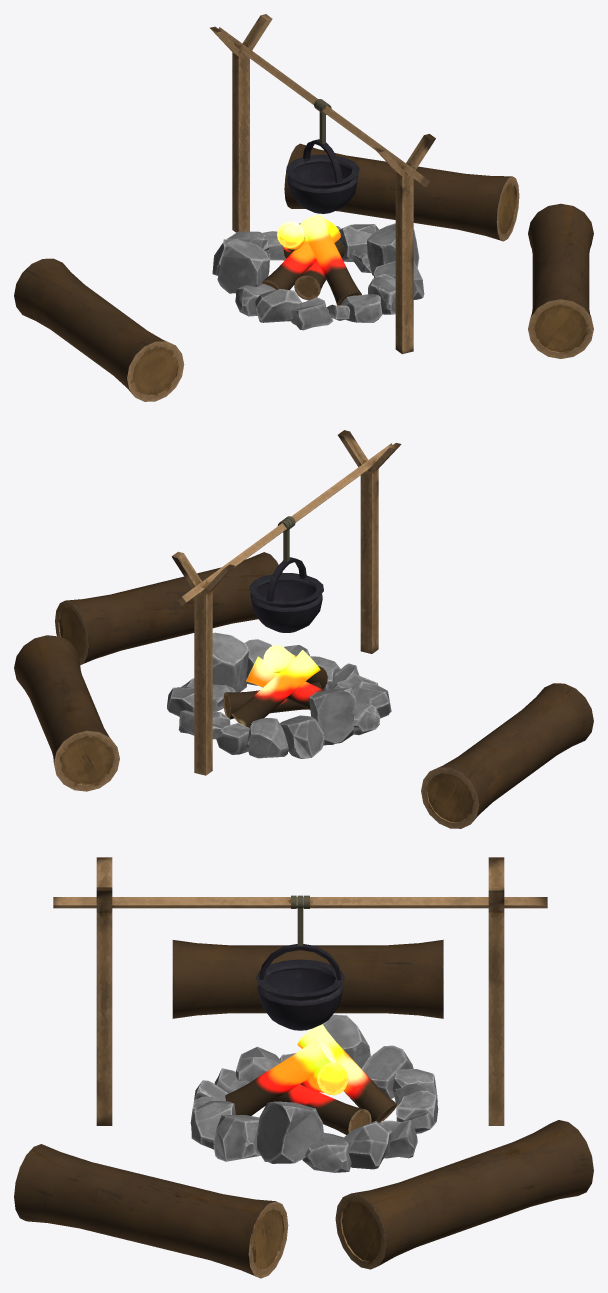
Rendered from Campfire.fbx.
3 renders of one model, top to bottom at view 1: azimuth 30°, elevation 25°; view 2: azimuth 150°, elevation 25°; view 3: azimuth 270°, elevation 25°, orthographic. The views are drawn at different scales.
Visible parts, largest first — view 1: fogata; view 2: fogata; view 3: fogata.
Part boxes in pixels (<box>): fogata: <box>14,14,593,401</box>; fogata: <box>14,430,593,828</box>; fogata: <box>14,857,593,1278</box>.
Bounding box in the file's own units: 1761 × 761 × 1480.
